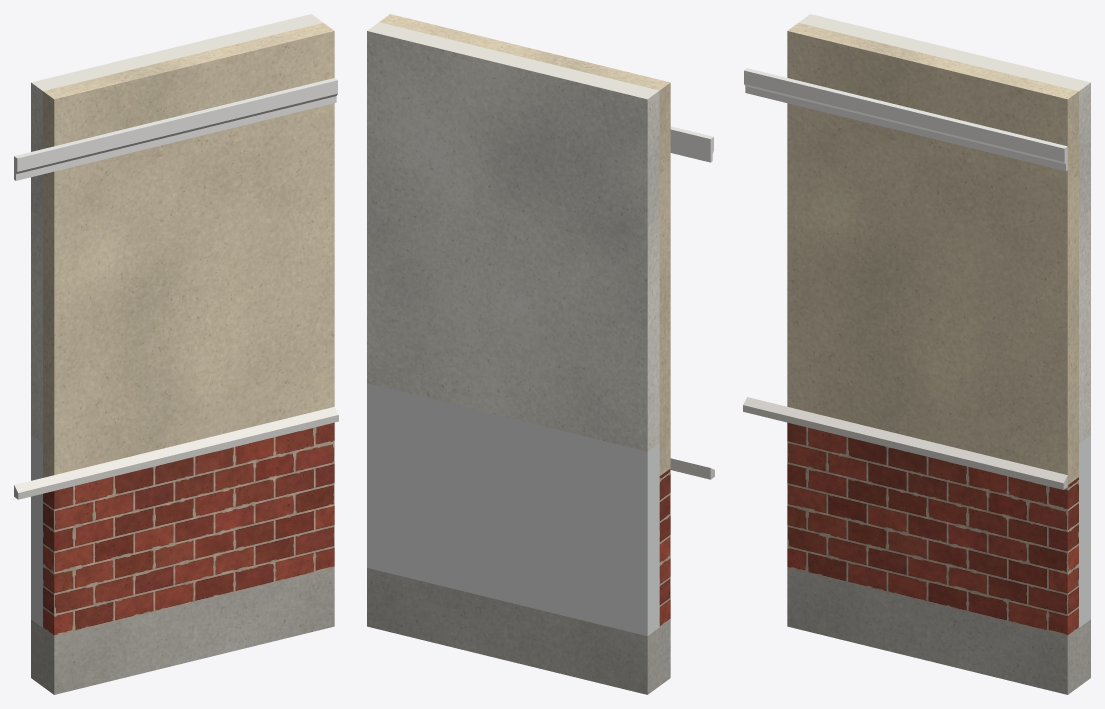
File: c_plain_l_ea.glb
3 views of the same model, side by side, from view 1: azimuth 30°, elevation 25°; view 2: azimuth 150°, elevation 25°; view 3: azimuth 330°, elevation 25° (orthographic).
Visible parts, largest first — view 1: c_plain_l_ea_render, c_plain_l_ea_brick, c_plain_l_ea_concrete, c_plain_l_ea_trim, c_plain_l_ea_plaster, c_plain_l_ea_coping, c_plain_l_ea_tile; view 2: c_plain_l_ea_plaster, c_plain_l_ea_tile, c_plain_l_ea_concrete, c_plain_l_ea_render, c_plain_l_ea_brick, c_plain_l_ea_trim, c_plain_l_ea_coping; view 3: c_plain_l_ea_render, c_plain_l_ea_brick, c_plain_l_ea_concrete, c_plain_l_ea_trim, c_plain_l_ea_plaster, c_plain_l_ea_coping, c_plain_l_ea_tile.
Boxes of the visible parts, x1=… form: c_plain_l_ea_render: x1=43, y1=23, x2=334, y2=477; c_plain_l_ea_brick: x1=43, y1=422, x2=334, y2=636; c_plain_l_ea_concrete: x1=31, y1=568, x2=334, y2=694; c_plain_l_ea_trim: x1=14, y1=78, x2=337, y2=180; c_plain_l_ea_plaster: x1=31, y1=14, x2=323, y2=443; c_plain_l_ea_coping: x1=14, y1=407, x2=338, y2=499; c_plain_l_ea_tile: x1=31, y1=435, x2=42, y2=627; c_plain_l_ea_plaster: x1=367, y1=22, x2=659, y2=451; c_plain_l_ea_tile: x1=367, y1=383, x2=659, y2=636; c_plain_l_ea_concrete: x1=367, y1=568, x2=670, y2=694; c_plain_l_ea_render: x1=379, y1=14, x2=670, y2=475; c_plain_l_ea_brick: x1=659, y1=468, x2=670, y2=626; c_plain_l_ea_trim: x1=670, y1=126, x2=713, y2=162; c_plain_l_ea_coping: x1=670, y1=458, x2=714, y2=479; c_plain_l_ea_render: x1=787, y1=23, x2=1078, y2=484; c_plain_l_ea_brick: x1=787, y1=422, x2=1078, y2=636; c_plain_l_ea_concrete: x1=787, y1=568, x2=1090, y2=694; c_plain_l_ea_trim: x1=744, y1=68, x2=1067, y2=170; c_plain_l_ea_plaster: x1=798, y1=14, x2=1090, y2=443; c_plain_l_ea_coping: x1=743, y1=397, x2=1067, y2=489; c_plain_l_ea_tile: x1=1079, y1=435, x2=1090, y2=627.
Size of the model in its own units: 2 by 3.55 by 0.295.
Materials: 7 (4 with a texture image).
